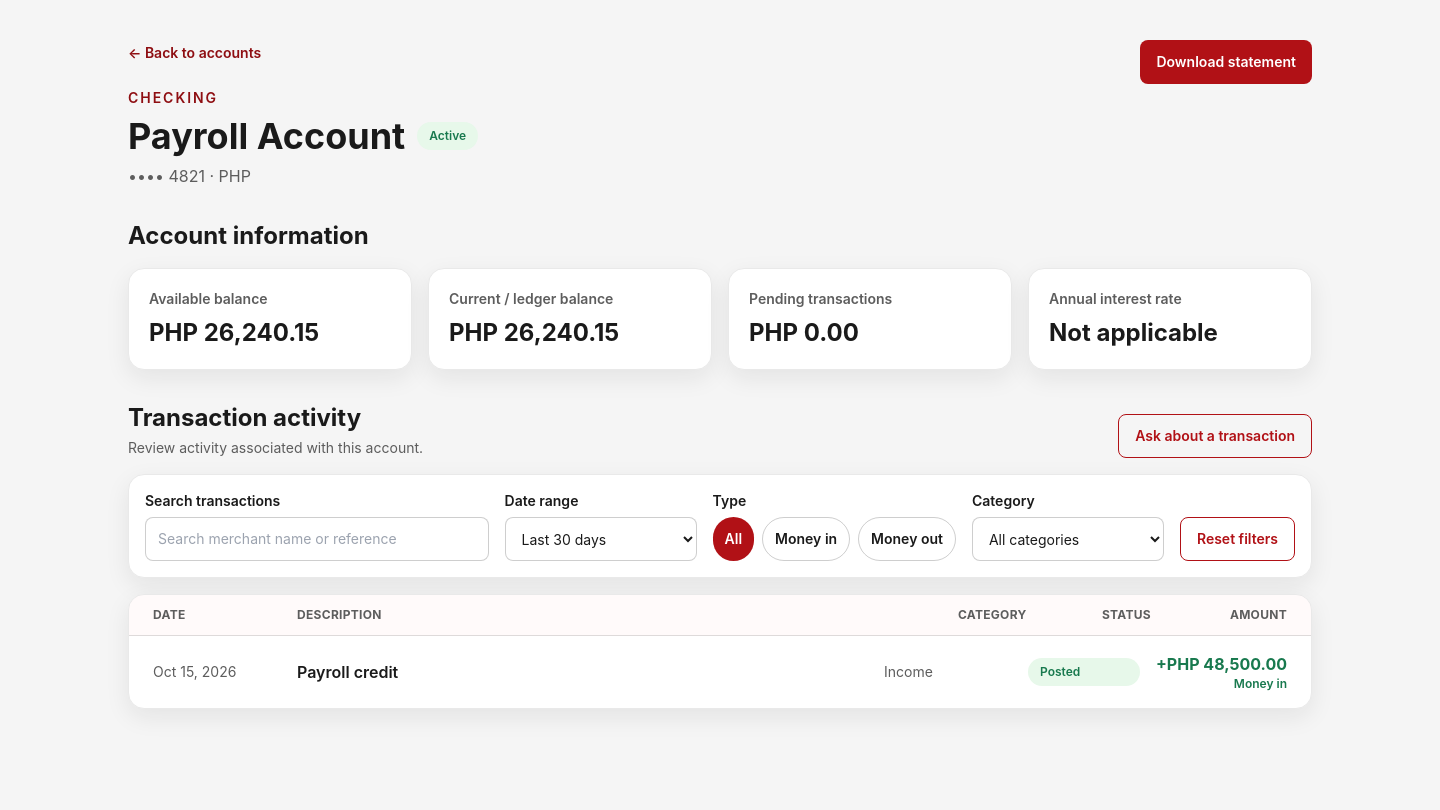
Test: AccountDetailPage › opens the transaction enquiry action from the account activity section
The image size is (1440, 810).
Check: the text "Payroll credit" is shown, box [297,662,398,682]
Click the button "Ask about a transaction": (1215, 436) [1118,414,1312,458]
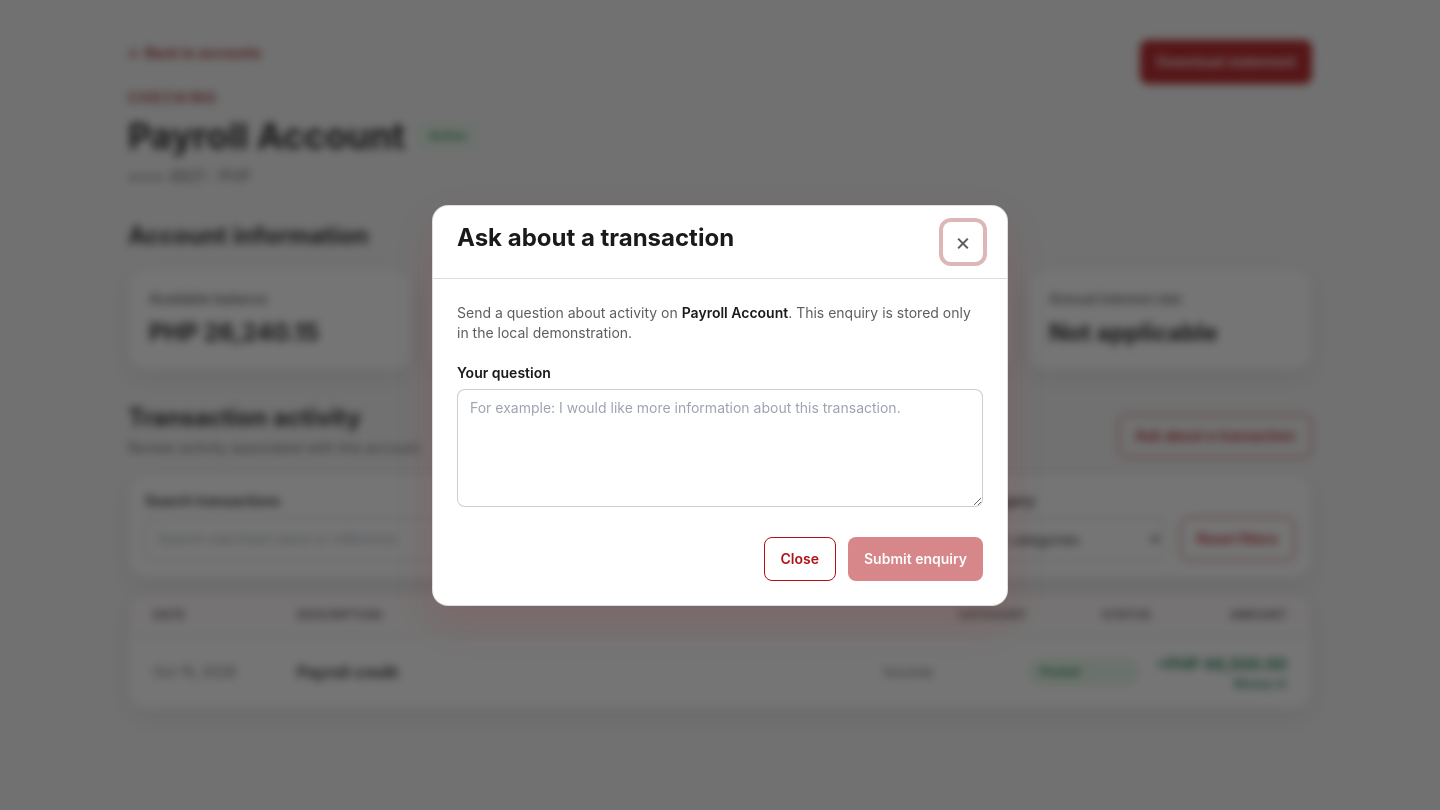
Check: the dialog "Ask about a transaction" is shown, box [432,204,1008,606]
Check: the text box labelled "Your question" is shown, box [457,388,983,506]
Check: the button "Submit enquiry" is disabled, box [848,536,983,580]
